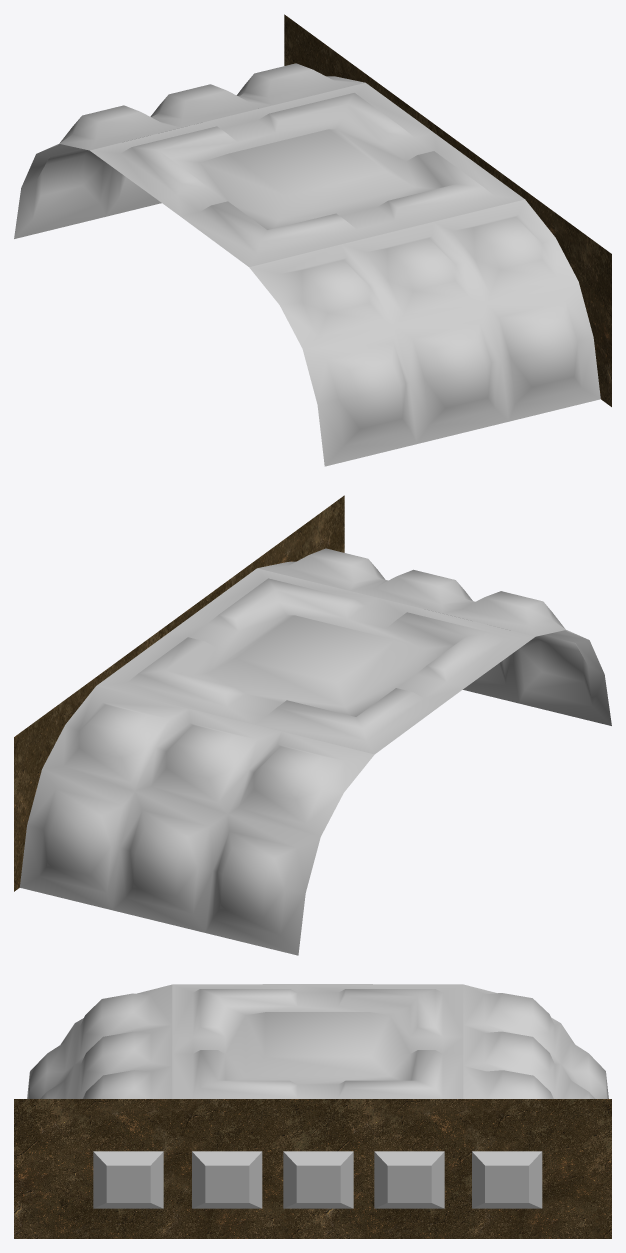
Rendered from BM_Ceiling_3x6_C.FBX.
3 views of the same model, one above another, from view 1: azimuth 30°, elevation 25°; view 2: azimuth 150°, elevation 25°; view 3: azimuth 270°, elevation 25° (orthographic). The views are drawn at different scales.
Parts seen in each view (by area): view 1: BM_Ceiling_3x6_C; view 2: BM_Ceiling_3x6_C; view 3: BM_Ceiling_3x6_C.
Boxes of the visible parts, x1,y1,x2,y2 form: BM_Ceiling_3x6_C: (14, 14, 611, 466); BM_Ceiling_3x6_C: (14, 495, 611, 955); BM_Ceiling_3x6_C: (14, 984, 611, 1238).
Size of the model in its own units: 310 by 163 by 616.
